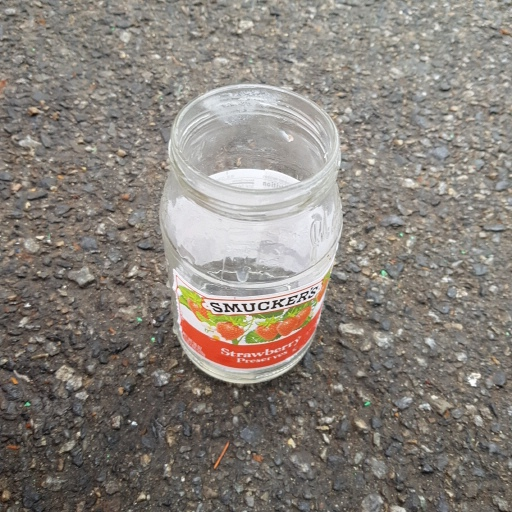Glass_5: (157, 81, 341, 383)
